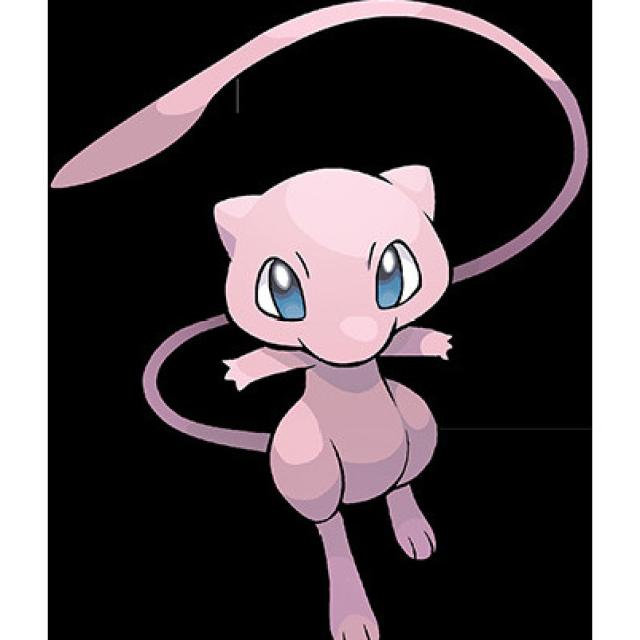Mew: (245, 153, 428, 512)
